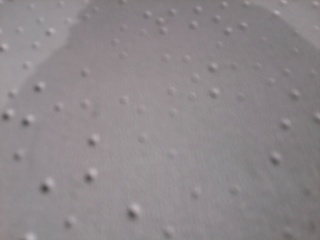Water_detected: (71, 48, 280, 240)
